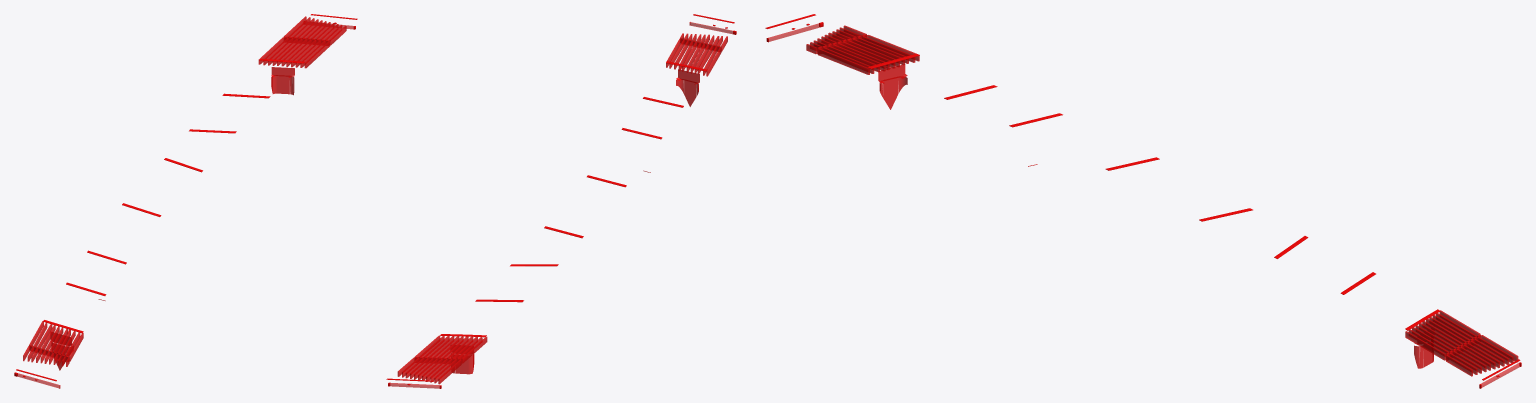
The picture shows the model from 3 angles, left to right: view 1: azimuth 30°, elevation 25°; view 2: azimuth 210°, elevation 25°; view 3: azimuth 270°, elevation 25°; orthographic projection. The views are drawn at different scales.
Visible parts, largest first — view 1: model; view 2: model; view 3: model.
Boxes of the visible parts, <box> form: model: <box>14,14,357,388</box>; model: <box>386,14,736,388</box>; model: <box>765,14,1521,388</box>.
Bounding box in the file's own units: 152 × 10.63 × 133.
